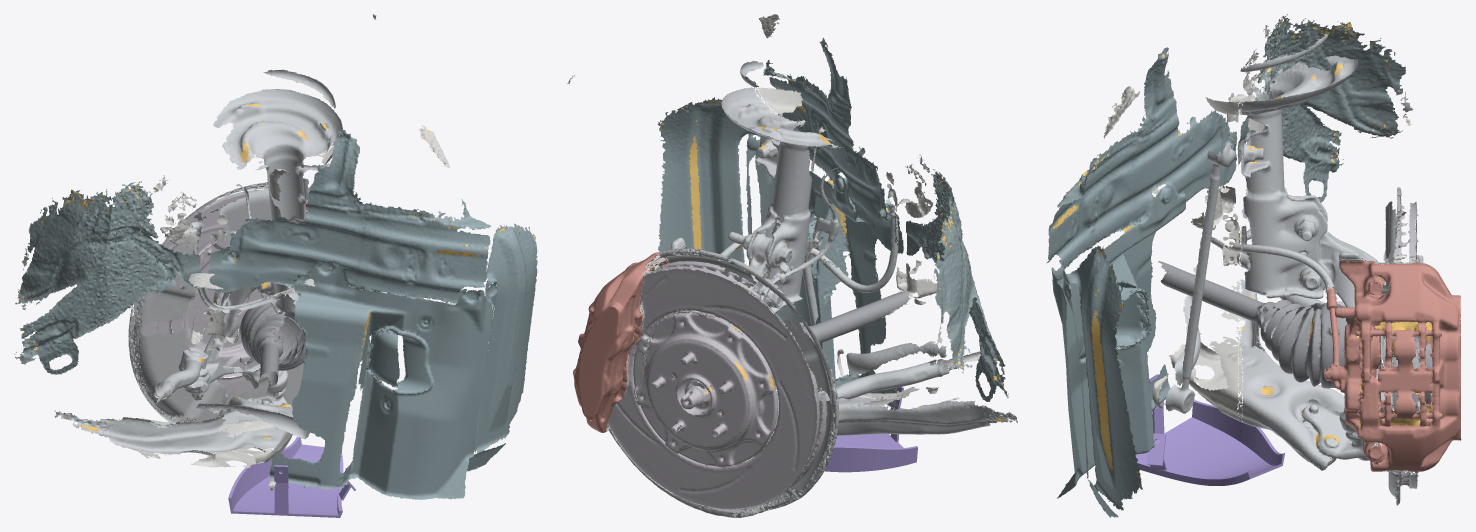
Rendered from v2b-context.glb.
The picture shows the model from 3 angles, left to right: view 1: azimuth 30°, elevation 25°; view 2: azimuth 150°, elevation 25°; view 3: azimuth 270°, elevation 25°; orthographic projection. The views are drawn at different scales.
Parts seen in each view (by area): view 1: panel_formed — captured scan (display), context_remainder — captured scan (display), panel_textured — captured scan (display), shield — captured scan (display), surrounding — captured scan (display), part, cv_axle — captured scan (display), rotor_retained_remainder — captured scan (display), captured_rotor_front_partial — captured scan (display), curved_member — captured scan (display), upper_round_segment — captured scan (display); view 2: panel_formed — captured scan (display), context_remainder — captured scan (display), captured_rotor_front_partial — captured scan (display), rotor_retained_remainder — captured scan (display), caliper — captured scan (display), panel_textured — captured scan (display), shield — captured scan (display), surrounding — captured scan (display), part, cv_axle — captured scan (display), curved_member — captured scan (display), panel_formed — inferred fill (display) (+2 smaller); view 3: panel_formed — captured scan (display), context_remainder — captured scan (display), caliper — captured scan (display), panel_textured — captured scan (display), part, cv_axle — captured scan (display), surrounding — captured scan (display), slender_link — captured scan (display), panel_formed — inferred fill (display), rotor_retained_remainder — captured scan (display), shield — captured scan (display), unresolved_seams_remainder — captured scan (display) (+3 smaller).
Boxes of the visible parts, x1,y1,x2,y2 form: panel_formed — captured scan (display): (208, 129, 537, 499); context_remainder — captured scan (display): (54, 88, 342, 453); panel_textured — captured scan (display): (14, 181, 201, 374); shield — captured scan (display): (128, 181, 307, 422); surrounding — captured scan (display): (21, 125, 449, 490); part: (228, 437, 355, 517); cv_axle — captured scan (display): (240, 302, 306, 385); rotor_retained_remainder — captured scan (display): (134, 190, 293, 377); captured_rotor_front_partial — captured scan (display): (140, 190, 260, 401); curved_member — captured scan (display): (195, 403, 310, 439); upper_round_segment — captured scan (display): (263, 69, 335, 108); panel_formed — captured scan (display): (657, 38, 903, 409); context_remainder — captured scan (display): (607, 87, 1017, 462); captured_rotor_front_partial — captured scan (display): (608, 269, 816, 509); rotor_retained_remainder — captured scan (display): (619, 261, 827, 510); caliper — captured scan (display): (573, 246, 686, 432); panel_textured — captured scan (display): (906, 169, 1008, 401); shield — captured scan (display): (607, 248, 839, 517); surrounding — captured scan (display): (757, 14, 980, 406); part: (824, 387, 917, 472); cv_axle — captured scan (display): (734, 291, 910, 384); curved_member — captured scan (display): (846, 341, 946, 375); panel_formed — inferred fill (display): (659, 41, 888, 249); panel_formed — captured scan (display): (1046, 47, 1237, 517); context_remainder — captured scan (display): (1240, 55, 1422, 472); caliper — captured scan (display): (1324, 260, 1461, 471); panel_textured — captured scan (display): (1237, 14, 1405, 202); part: (1135, 374, 1284, 485); cv_axle — captured scan (display): (1158, 261, 1350, 388); surrounding — captured scan (display): (1103, 23, 1413, 420); slender_link — captured scan (display): (1165, 142, 1236, 413); panel_formed — inferred fill (display): (1052, 54, 1235, 487); rotor_retained_remainder — captured scan (display): (1392, 201, 1432, 488); shield — captured scan (display): (1379, 187, 1408, 505); unresolved_seams_remainder — captured scan (display): (1237, 102, 1420, 474).
Size of the model in its own units: 0.7134 by 0.6211 by 0.5162.
